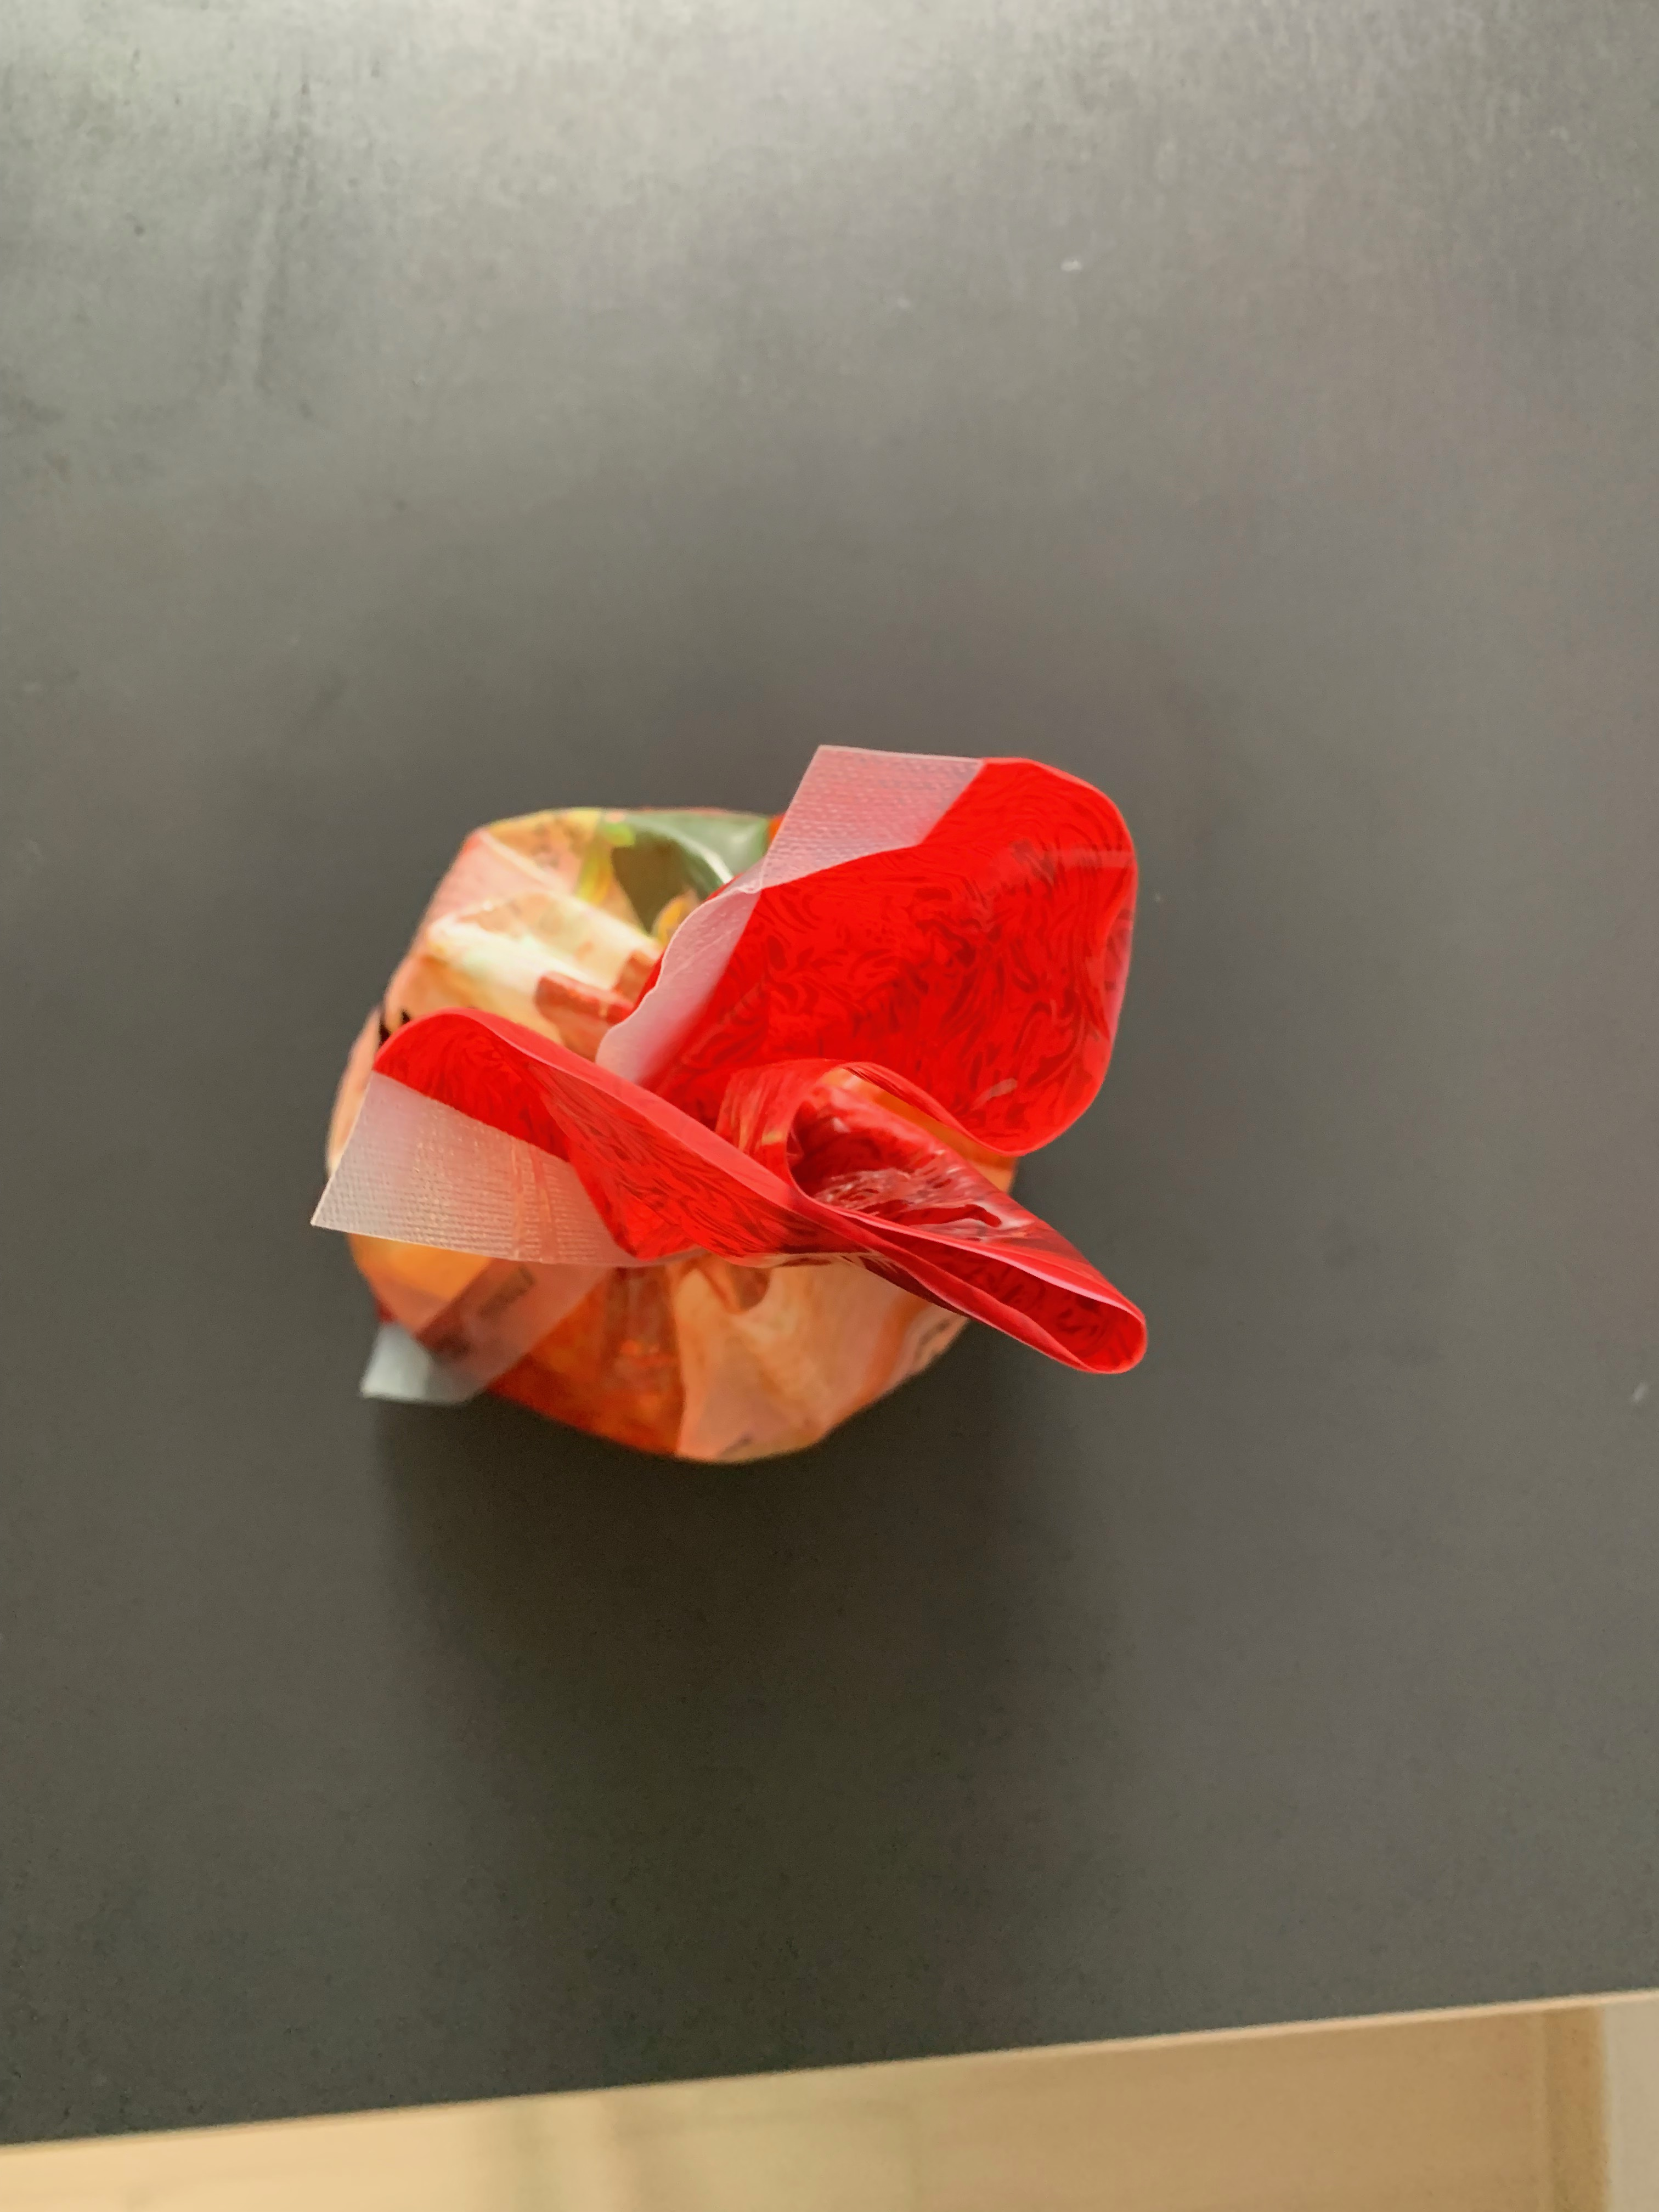kimchi: (322, 761, 1145, 1460)
